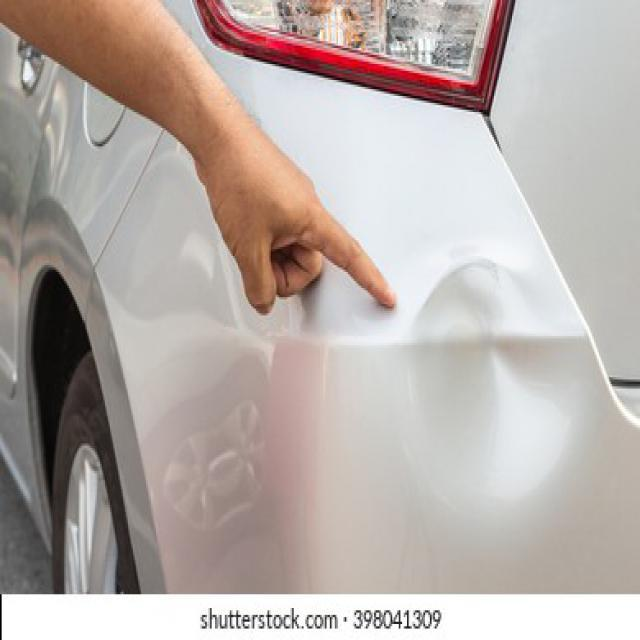rear-bumper-dent: (102, 242, 638, 601)
